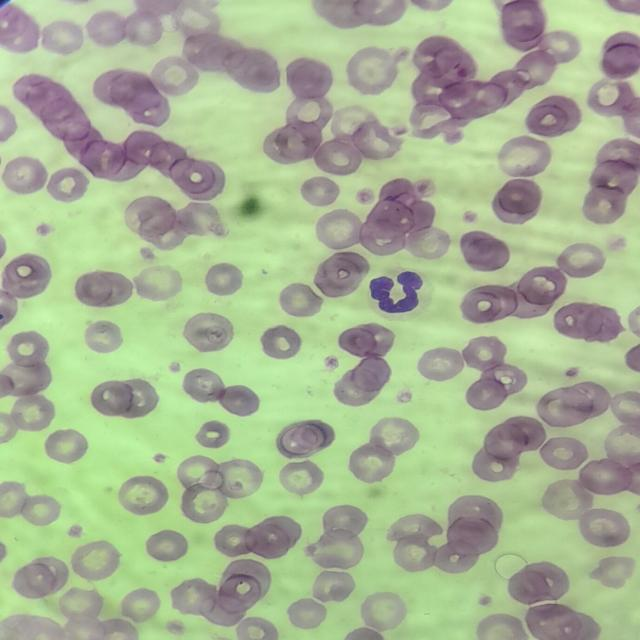Neutrofilo: (359, 262, 431, 321)
